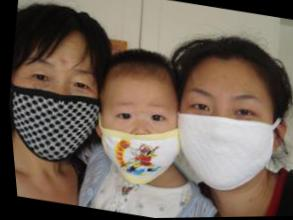OK: (162, 77, 283, 196), (4, 46, 111, 170)
WRONG: (87, 93, 185, 189)
